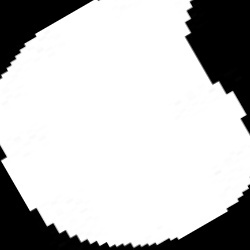spot: (1, 2, 248, 246)
